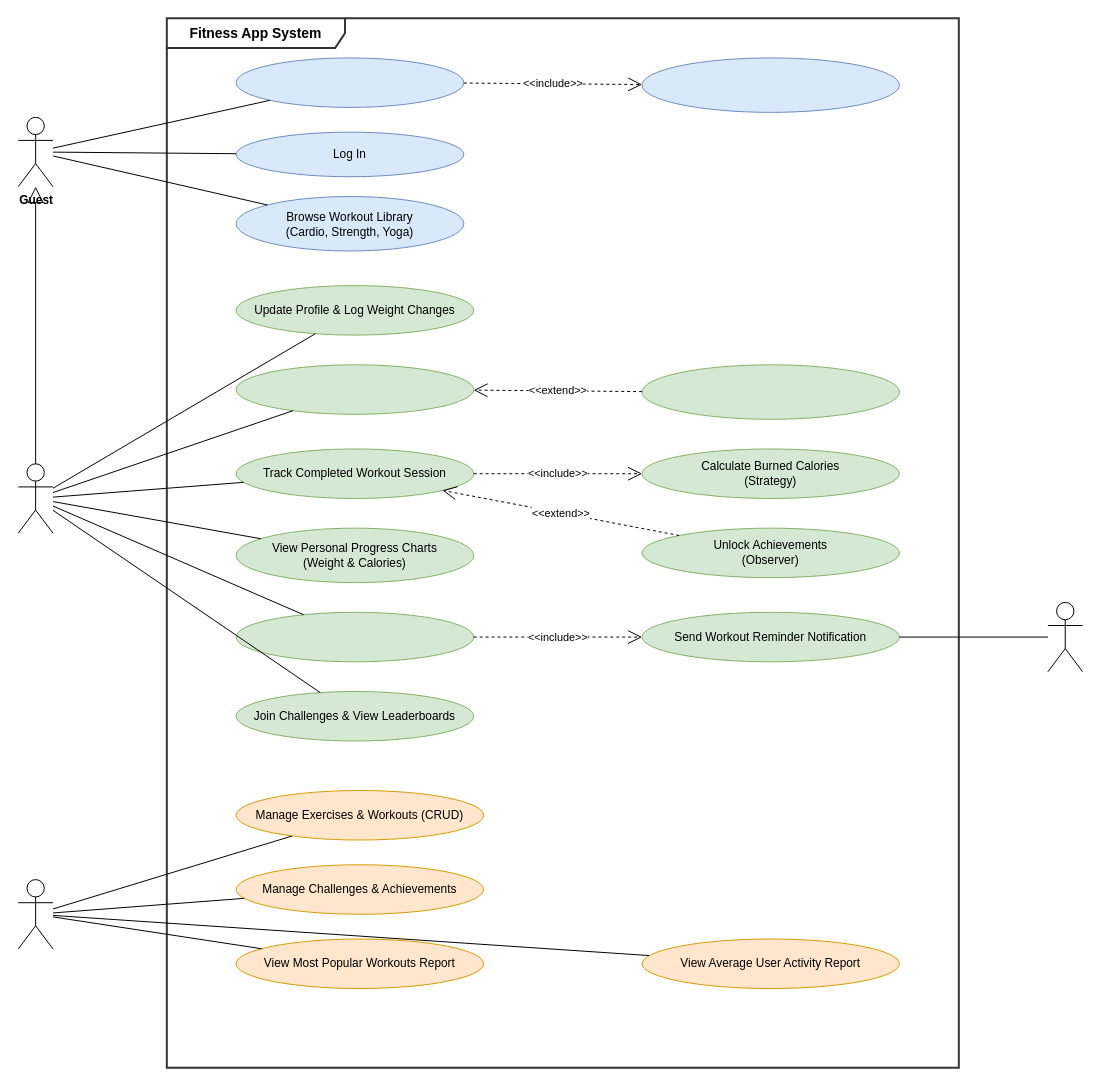
The diagram is 1115 pixels wide and 1085 high, and some of its shapes have lost their labels. The centre of each missing label's shape, as x and y in pixels:
Admin: point (35, 914)
Auto-Generate Program by Goal (Builder): point (770, 391)
Configure Workout Reminders: point (354, 636)
Create Custom Workout Program: point (354, 389)
Enter Anthropometric Data (Gender, Age, Weight, Height): point (770, 84)
Notification Scheduler: point (1065, 636)
Sign Up & Create Account: point (349, 82)
User: point (35, 498)
